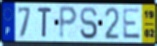2: (104, 6, 121, 41)
7: (17, 7, 33, 39)
E: (122, 8, 142, 41)
P: (58, 5, 79, 41)
S: (79, 6, 99, 41)
T: (36, 6, 53, 39)
